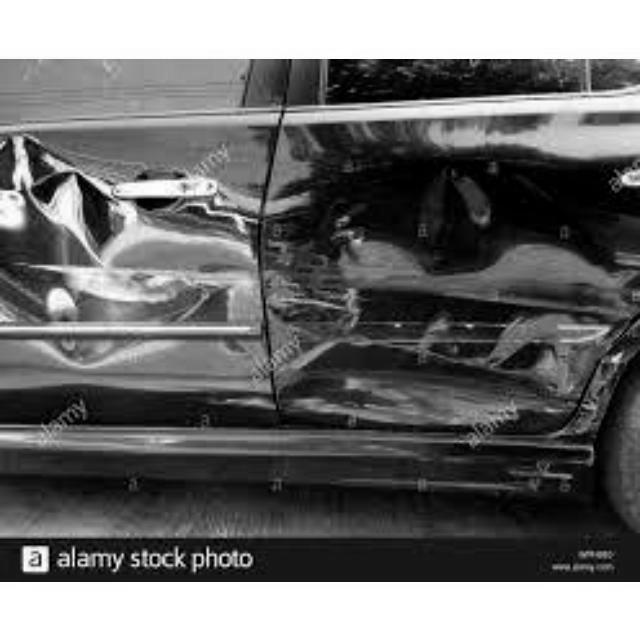Runningboard-Damage: (256, 425, 599, 497), (3, 423, 255, 500)
doorouter-dent: (274, 102, 635, 434), (0, 115, 268, 429)
